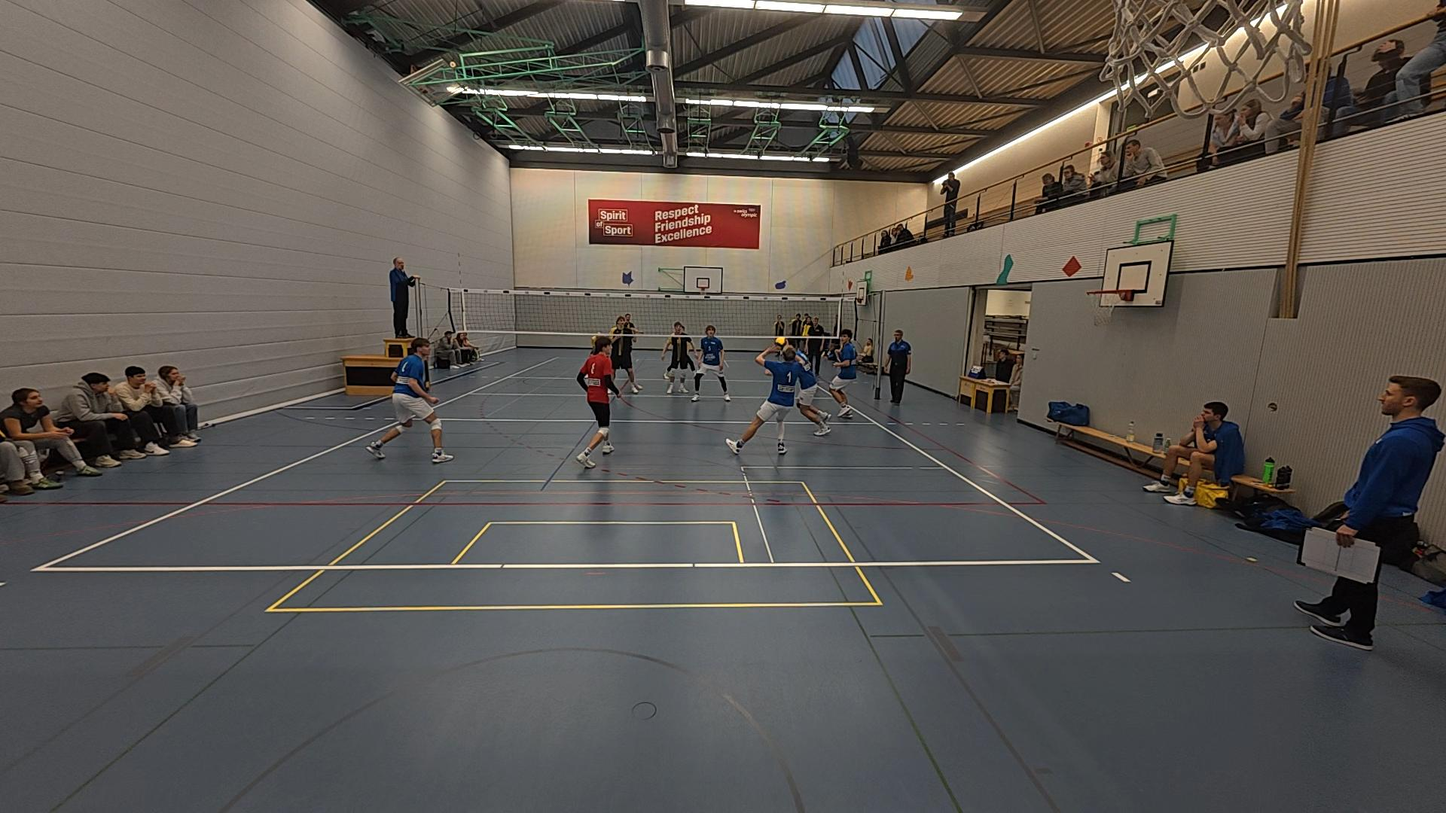Player: (368, 338, 452, 464), (575, 336, 629, 468), (767, 341, 835, 439), (825, 329, 862, 419), (692, 324, 731, 402), (610, 312, 639, 396), (662, 322, 694, 396), (620, 312, 646, 388)
Receive: (725, 345, 805, 458)
ball: (773, 337, 788, 350)
